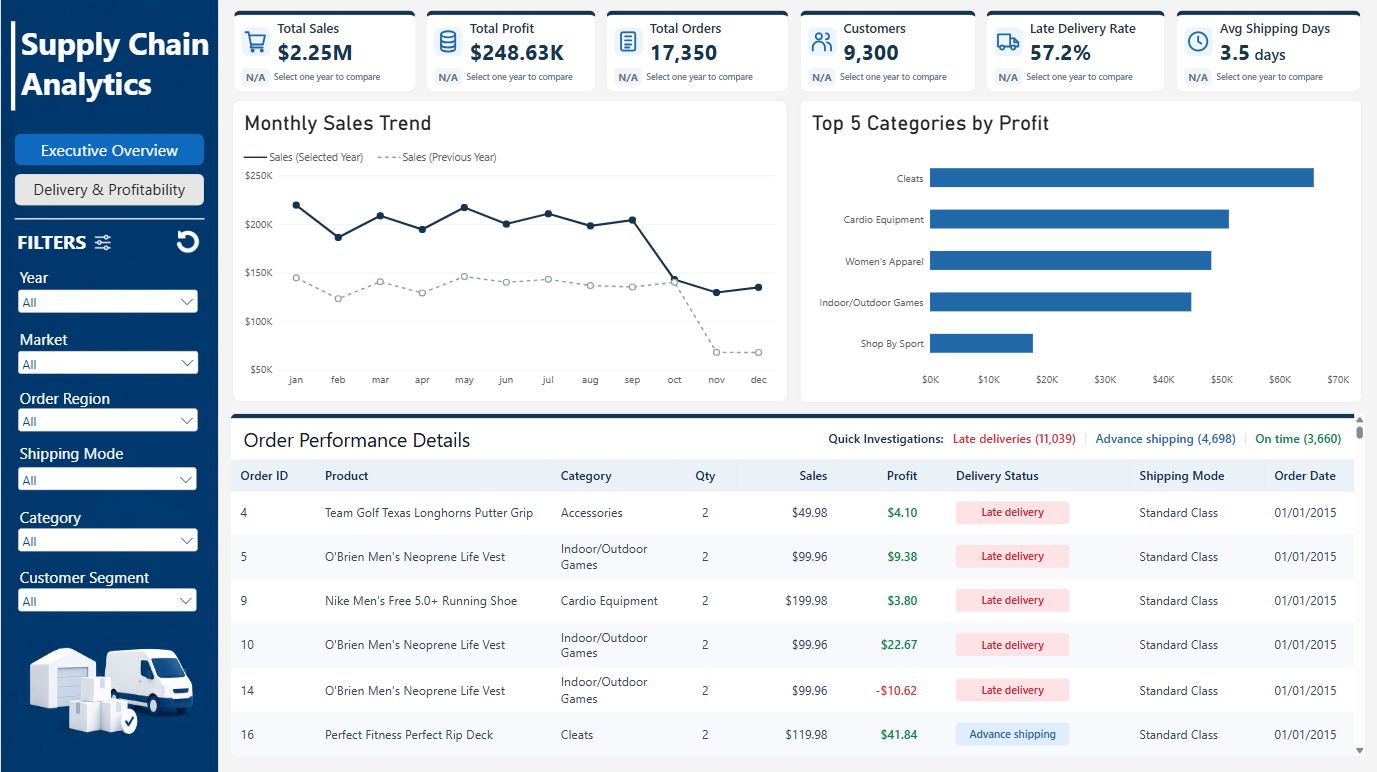

This screenshot's page, from the dashboard's own definition file:
{"tool":"powerbi","page":{"name":"Executive Overview","canvas":[1920,1080],"ordinal":1},"visuals":[{"type":"lineChart","title":"Monthly Sales Trend","fields":{"Category":["CALENDAR_TABLE.MONTH"],"Y":["_Measures.Total Sales","_Measures.Sales Previous Year"]},"box":[323.3,140,775,421.7],"z":0},{"type":"image","box":[0,0,303.5,1079.6],"z":1000},{"type":"shape","box":[5.8,29.2,23.3,124.5],"z":2000},{"type":"slicer","fields":{"Values":["FACT_Order.Market"]},"box":[19.4,484.4,260.7,42.8],"z":3000},{"type":"slicer","fields":{"Values":["CALENDAR_TABLE.YEAR"]},"box":[20,400,260,40],"z":4000},{"type":"slicer","fields":{"Values":["FACT_Order.Shipping Mode"]},"box":[20,646.7,258.3,43.3],"z":5000},{"type":"slicer","fields":{"Values":["DIM_Customer.Customer Segment"]},"box":[20,816.7,258.3,41.7],"z":6000},{"type":"slicer","fields":{"Values":["FACT_Order.Order Region"]},"box":[20,565,260,40],"z":7000},{"type":"slicer","fields":{"Values":["DIM_Department.Department Name"]},"box":[20,733.3,260,43.3],"z":8000},{"type":"textbox","box":[26.7,371.7,53,31.2],"z":9000},{"type":"textbox","box":[26.7,540,135.3,35.7],"z":10000},{"type":"textbox","box":[26.7,458.3,87.5,46.7],"z":11000},{"type":"textbox","box":[26.7,616.7,171.7,37.5],"z":12000},{"type":"textbox","box":[26.7,706.7,128.3,33.3],"z":13000},{"type":"textbox","box":[26.7,790,205,35],"z":14000},{"type":"textbox","box":[27.2,29.2,268.4,138.1],"z":15000},{"type":"textbox","box":[23.3,319,105.9,42.1],"z":16000},{"type":"htmlContent443BE3AD55E043BF878BED274D3A6855","fields":{"content":["_Measures.Order Performance HTML"]},"box":[303.5,562.2,1616.5,509.7],"z":17000},{"type":"htmlContent443BE3AD55E043BF878BED274D3A6855","fields":{"content":["_Measures.Total Sales KPI HTML"]},"box":[309.3,0,286,167.3],"z":18000},{"type":"htmlContent443BE3AD55E043BF878BED274D3A6855","fields":{"content":["_Measures.Total Profit KPI HTML"]},"box":[578,0,268.4,179],"z":19000},{"type":"htmlContent443BE3AD55E043BF878BED274D3A6855","fields":{"content":["_Measures.Total Orders KPI HTML"]},"box":[829.2,0,286.4,176.2],"z":20000},{"type":"htmlContent443BE3AD55E043BF878BED274D3A6855","fields":{"content":["_Measures.Total Customers KPI HTML"]},"box":[1098.4,0,277.9,176.2],"z":21000},{"type":"htmlContent443BE3AD55E043BF878BED274D3A6855","fields":{"content":["_Measures.Late Shipment KPI HTML"]},"box":[1359,0,282,179],"z":22000},{"type":"htmlContent443BE3AD55E043BF878BED274D3A6855","fields":{"content":["_Measures.Avg Shipping Days KPI HTML"]},"box":[1623.8,0,289.9,179],"z":23000},{"type":"shape","box":[19.5,287.9,264.6,35],"z":24000},{"type":"barChart","title":"Top 5 Categories by Profit","fields":{"Category":["DIM_Categoria.Category Name"],"Y":["_Measures.Total Profit"]},"box":[1114.7,140.1,784,422.1],"z":25000},{"type":"image","box":[241.7,315,36.7,43.3],"z":26000},{"type":"pageNavigator","box":[19.5,186.7,264.6,101.2],"z":27000},{"type":"image","box":[131.5,318.4,22.2,38],"z":28000}]}

Visuals, with their boxes on the page's 1920x1080 design canvas (x1, y1, x2, y2). These are canvas units, not pixel positions in the 1377x772 screenshot, which may show the page scaled, cropped or inside an application window:
"Monthly Sales Trend" lineChart: <region>323, 140, 1098, 562</region>
image: <region>0, 0, 304, 1080</region>
shape: <region>6, 29, 29, 154</region>
slicer - FACT_Order.Market: <region>19, 484, 280, 527</region>
slicer - CALENDAR_TABLE.YEAR: <region>20, 400, 280, 440</region>
slicer - FACT_Order.Shipping Mode: <region>20, 647, 278, 690</region>
slicer - DIM_Customer.Customer Segment: <region>20, 817, 278, 858</region>
slicer - FACT_Order.Order Region: <region>20, 565, 280, 605</region>
slicer - DIM_Department.Department Name: <region>20, 733, 280, 777</region>
textbox: <region>27, 372, 80, 403</region>
textbox: <region>27, 540, 162, 576</region>
textbox: <region>27, 458, 114, 505</region>
textbox: <region>27, 617, 198, 654</region>
textbox: <region>27, 707, 155, 740</region>
textbox: <region>27, 790, 232, 825</region>
textbox: <region>27, 29, 296, 167</region>
textbox: <region>23, 319, 129, 361</region>
htmlContent443BE3AD55E043BF878BED274D3A6855 - _Measures.Order Performance HTML: <region>304, 562, 1920, 1072</region>
htmlContent443BE3AD55E043BF878BED274D3A6855 - _Measures.Total Sales KPI HTML: <region>309, 0, 595, 167</region>
htmlContent443BE3AD55E043BF878BED274D3A6855 - _Measures.Total Profit KPI HTML: <region>578, 0, 846, 179</region>
htmlContent443BE3AD55E043BF878BED274D3A6855 - _Measures.Total Orders KPI HTML: <region>829, 0, 1116, 176</region>
htmlContent443BE3AD55E043BF878BED274D3A6855 - _Measures.Total Customers KPI HTML: <region>1098, 0, 1376, 176</region>
htmlContent443BE3AD55E043BF878BED274D3A6855 - _Measures.Late Shipment KPI HTML: <region>1359, 0, 1641, 179</region>
htmlContent443BE3AD55E043BF878BED274D3A6855 - _Measures.Avg Shipping Days KPI HTML: <region>1624, 0, 1914, 179</region>
shape: <region>20, 288, 284, 323</region>
"Top 5 Categories by Profit" barChart: <region>1115, 140, 1899, 562</region>
image: <region>242, 315, 278, 358</region>
pageNavigator: <region>20, 187, 284, 288</region>
image: <region>132, 318, 154, 356</region>
